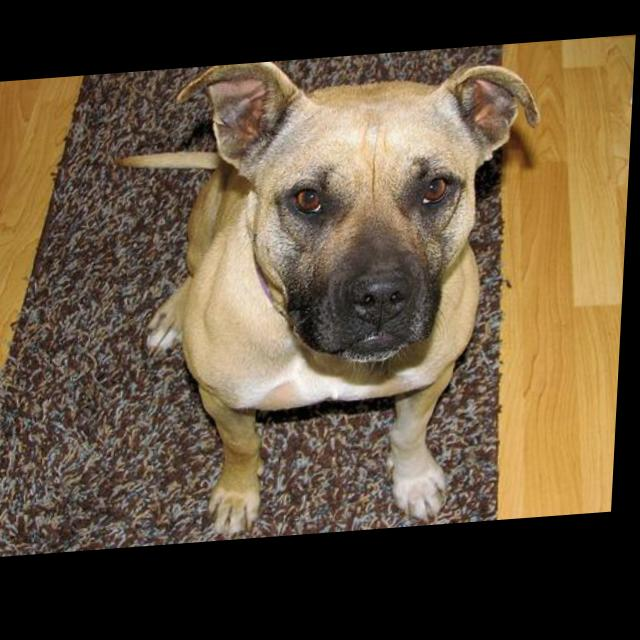amstaff: (105, 50, 547, 550)
